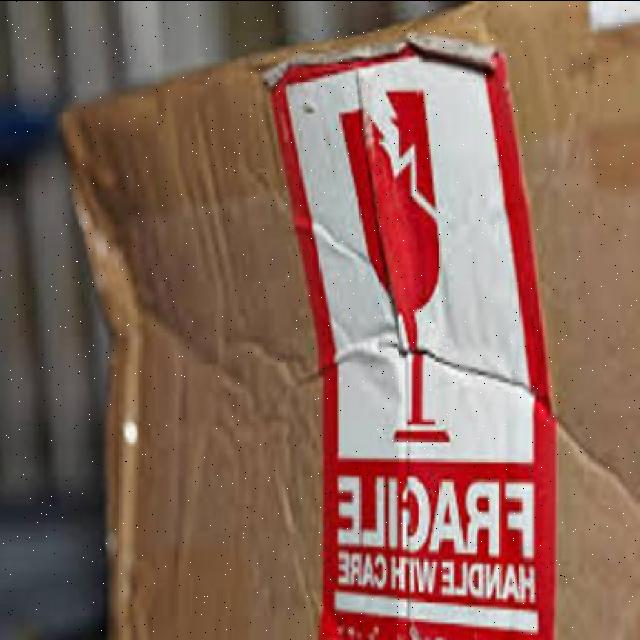defect: (63, 6, 634, 640)
